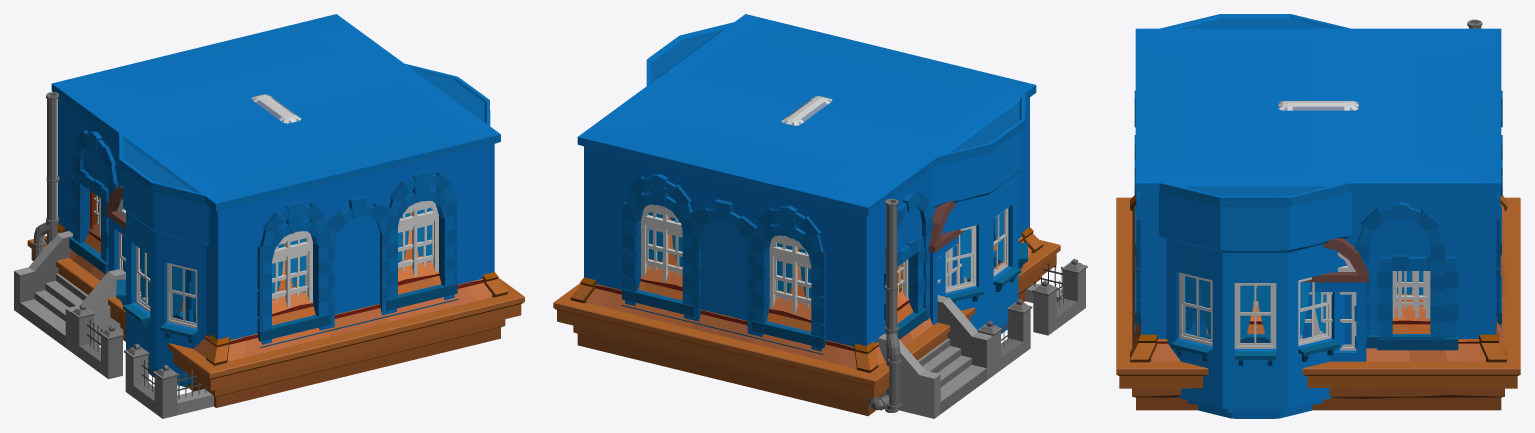
3 views of the same model, side by side, from view 1: azimuth 30°, elevation 25°; view 2: azimuth 150°, elevation 25°; view 3: azimuth 270°, elevation 25° (orthographic). The views are drawn at different scales.
Parts seen in each view (by area): view 1: mid3window, baseBlue, blueRooftop; view 2: mid3window, baseBlue, blueRooftop; view 3: mid3window, blueRooftop, baseBlue.
Boxes of the visible parts, bbox=[...] form: mid3window: bbox=[46, 14, 500, 387]; baseBlue: bbox=[14, 92, 457, 418]; blueRooftop: bbox=[27, 94, 524, 407]; mid3window: bbox=[578, 14, 1036, 409]; baseBlue: bbox=[577, 137, 1087, 418]; blueRooftop: bbox=[553, 96, 1060, 416]; mid3window: bbox=[1134, 14, 1502, 418]; blueRooftop: bbox=[1116, 101, 1520, 410]; baseBlue: bbox=[1134, 19, 1502, 348].
Bounding box in the file's own units: 0.9398 × 0.5123 × 0.8076.
